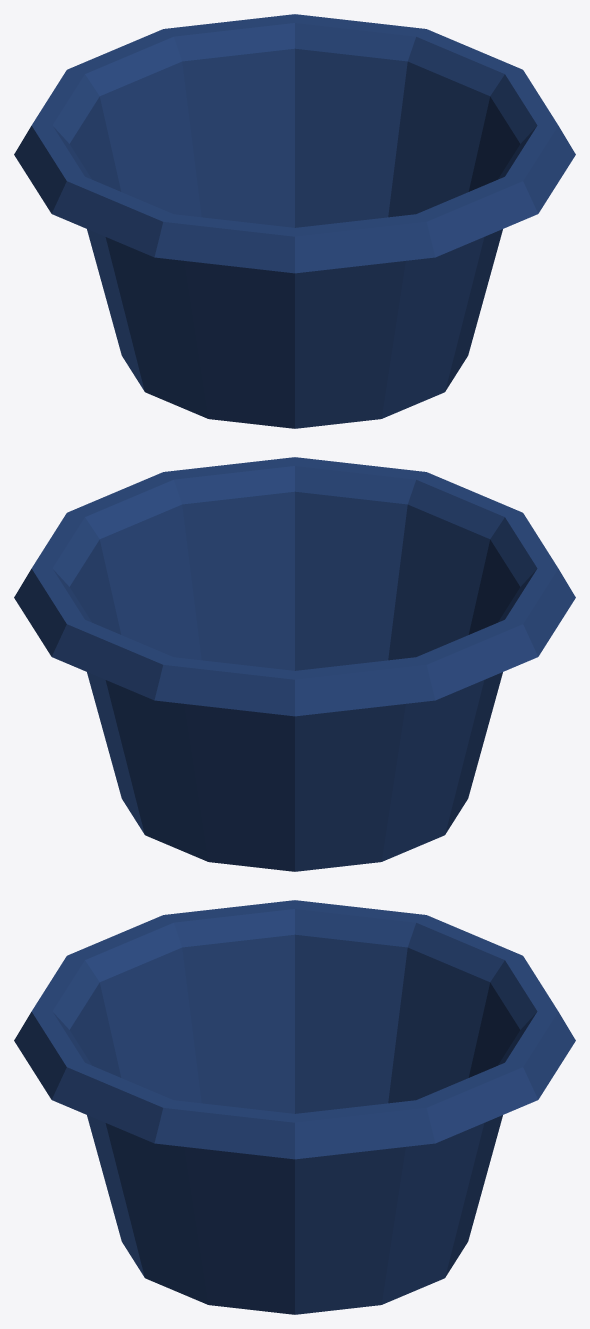
The model's file is RawBasin.fbx.
3 views of the same model, one above another, from view 1: azimuth 30°, elevation 25°; view 2: azimuth 150°, elevation 25°; view 3: azimuth 270°, elevation 25° (orthographic).
Parts seen in each view (by area): view 1: Raw Basin; view 2: Raw Basin; view 3: Raw Basin.
Part boxes in pixels (x1,y1,x2,y2): Raw Basin: (14, 14, 575, 428); Raw Basin: (14, 457, 575, 871); Raw Basin: (14, 900, 575, 1314).
Size of the model in its own units: 0.9734 by 0.9734 by 0.44.
